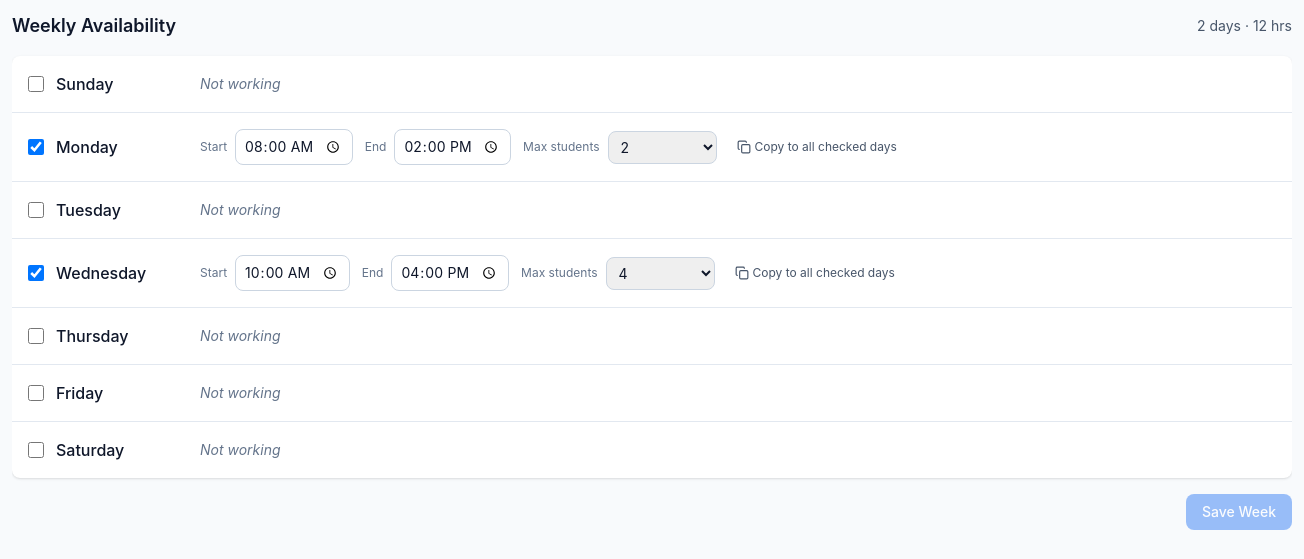
it: WeeklyAvailabilityGrid - copy to all checked days › copies start time, end time, and max students from one row onto every other checked day
Expected: the checkbox named "Monday works this day" is shown, x1=28 y1=139 x2=44 y2=155
Click the checkbox named "Friday works this day" at {"x": 36, "y": 393}, box x1=28 y1=385 x2=44 y2=401
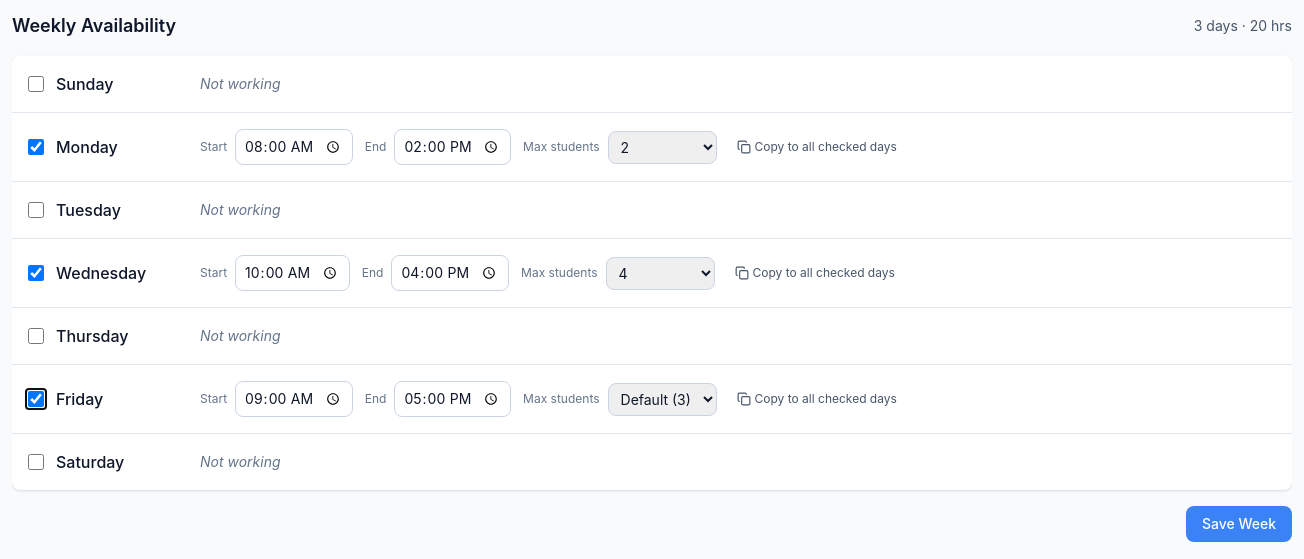
// First copy button corresponds to Monday (rendered first, dayOfWeek 1).
Click the button "Copy to all checked days" in the row of "Monday" at {"x": 817, "y": 147}, box x1=728 y1=133 x2=905 y2=161
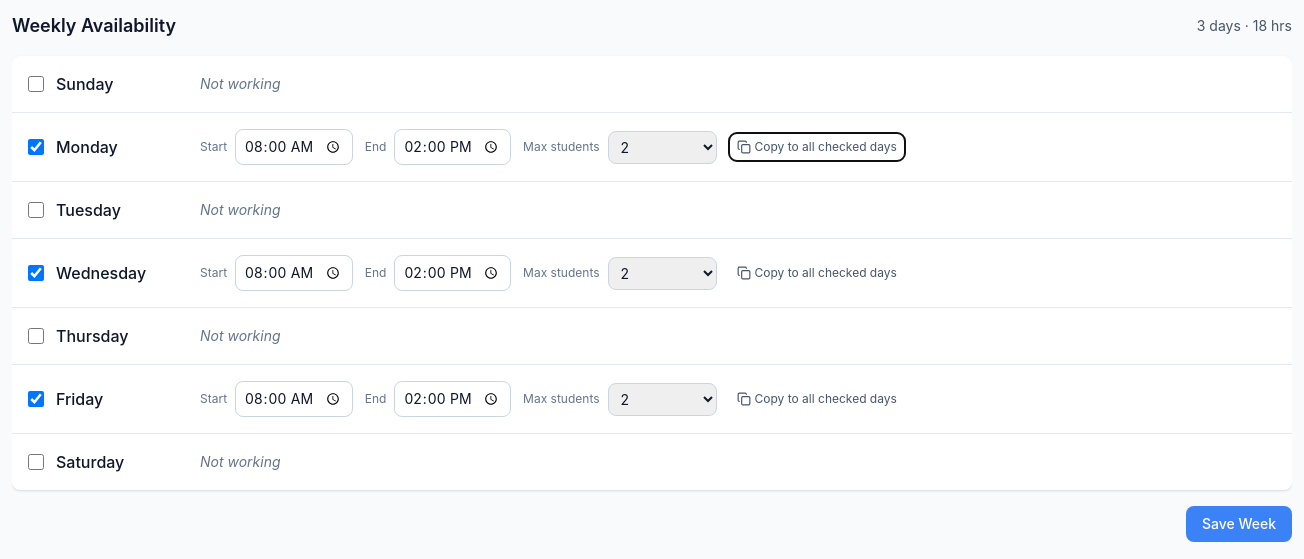
Expected: the time field with id "start-3" holds "08:00", x1=235 y1=255 x2=353 y2=291
Expected: the time field with id "end-3" holds "14:00", x1=394 y1=255 x2=511 y2=291
Expected: the time field with id "start-5" holds "08:00", x1=235 y1=381 x2=353 y2=417
